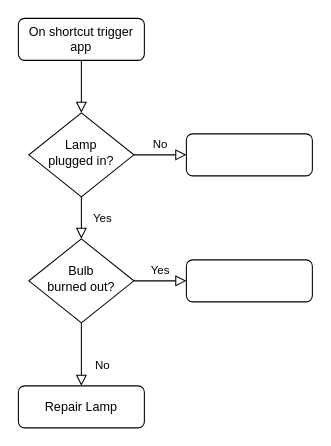
The diagram is 331 pixels wide and 446 high, and some of its shapes have lost their labels. The shapes that lost their labels are listed below. From the top down, each one's centre as x and y in pixels, then its label:
At point 248,154: "Plug in lamp".
At point 248,280: "Replace Bulb".
